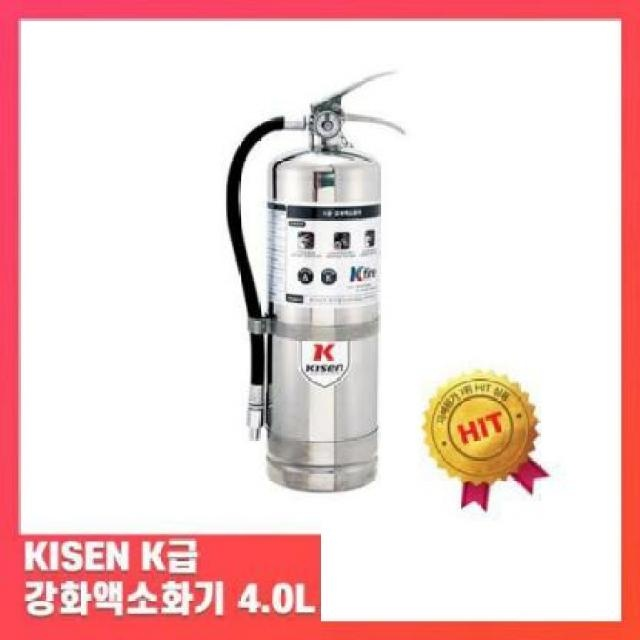fire extinguisher: (226, 71, 406, 494)
